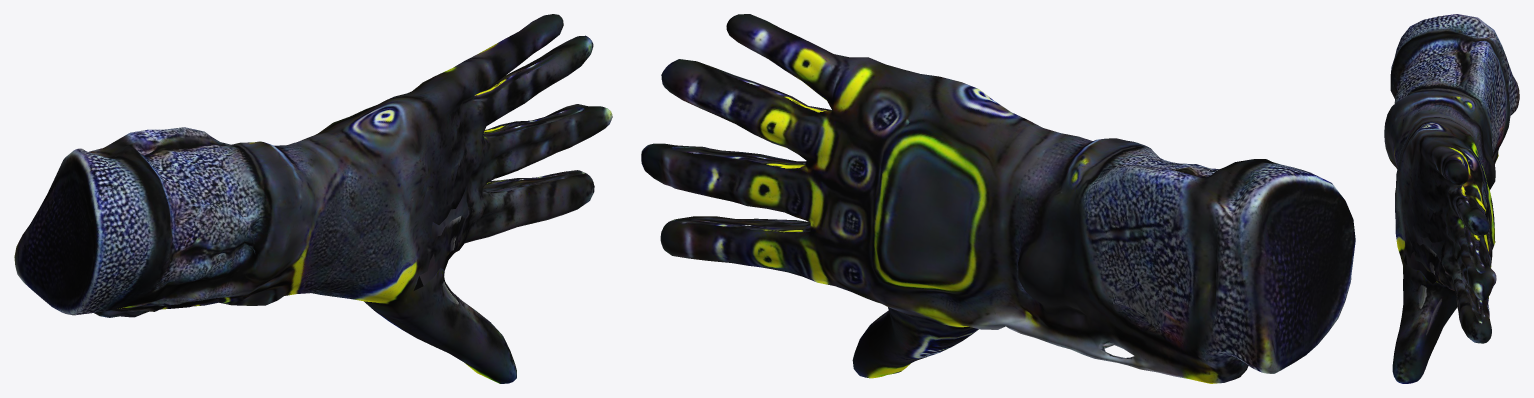
The model's file is glove2.glb.
The picture shows the model from 3 angles, left to right: view 1: azimuth 30°, elevation 25°; view 2: azimuth 150°, elevation 25°; view 3: azimuth 270°, elevation 25°; orthographic projection. The views are drawn at different scales.
Parts seen in each view (by area): view 1: mesh.001; view 2: mesh.001; view 3: mesh.001.
Boxes of the visible parts, x1,y1,x2,y2 form: mesh.001: (14,14,612,383); mesh.001: (641,14,1355,383); mesh.001: (1384,14,1519,383).
Size of the model in its own units: 1.17 by 0.6246 by 0.3124.
1 material, 1 textured.
